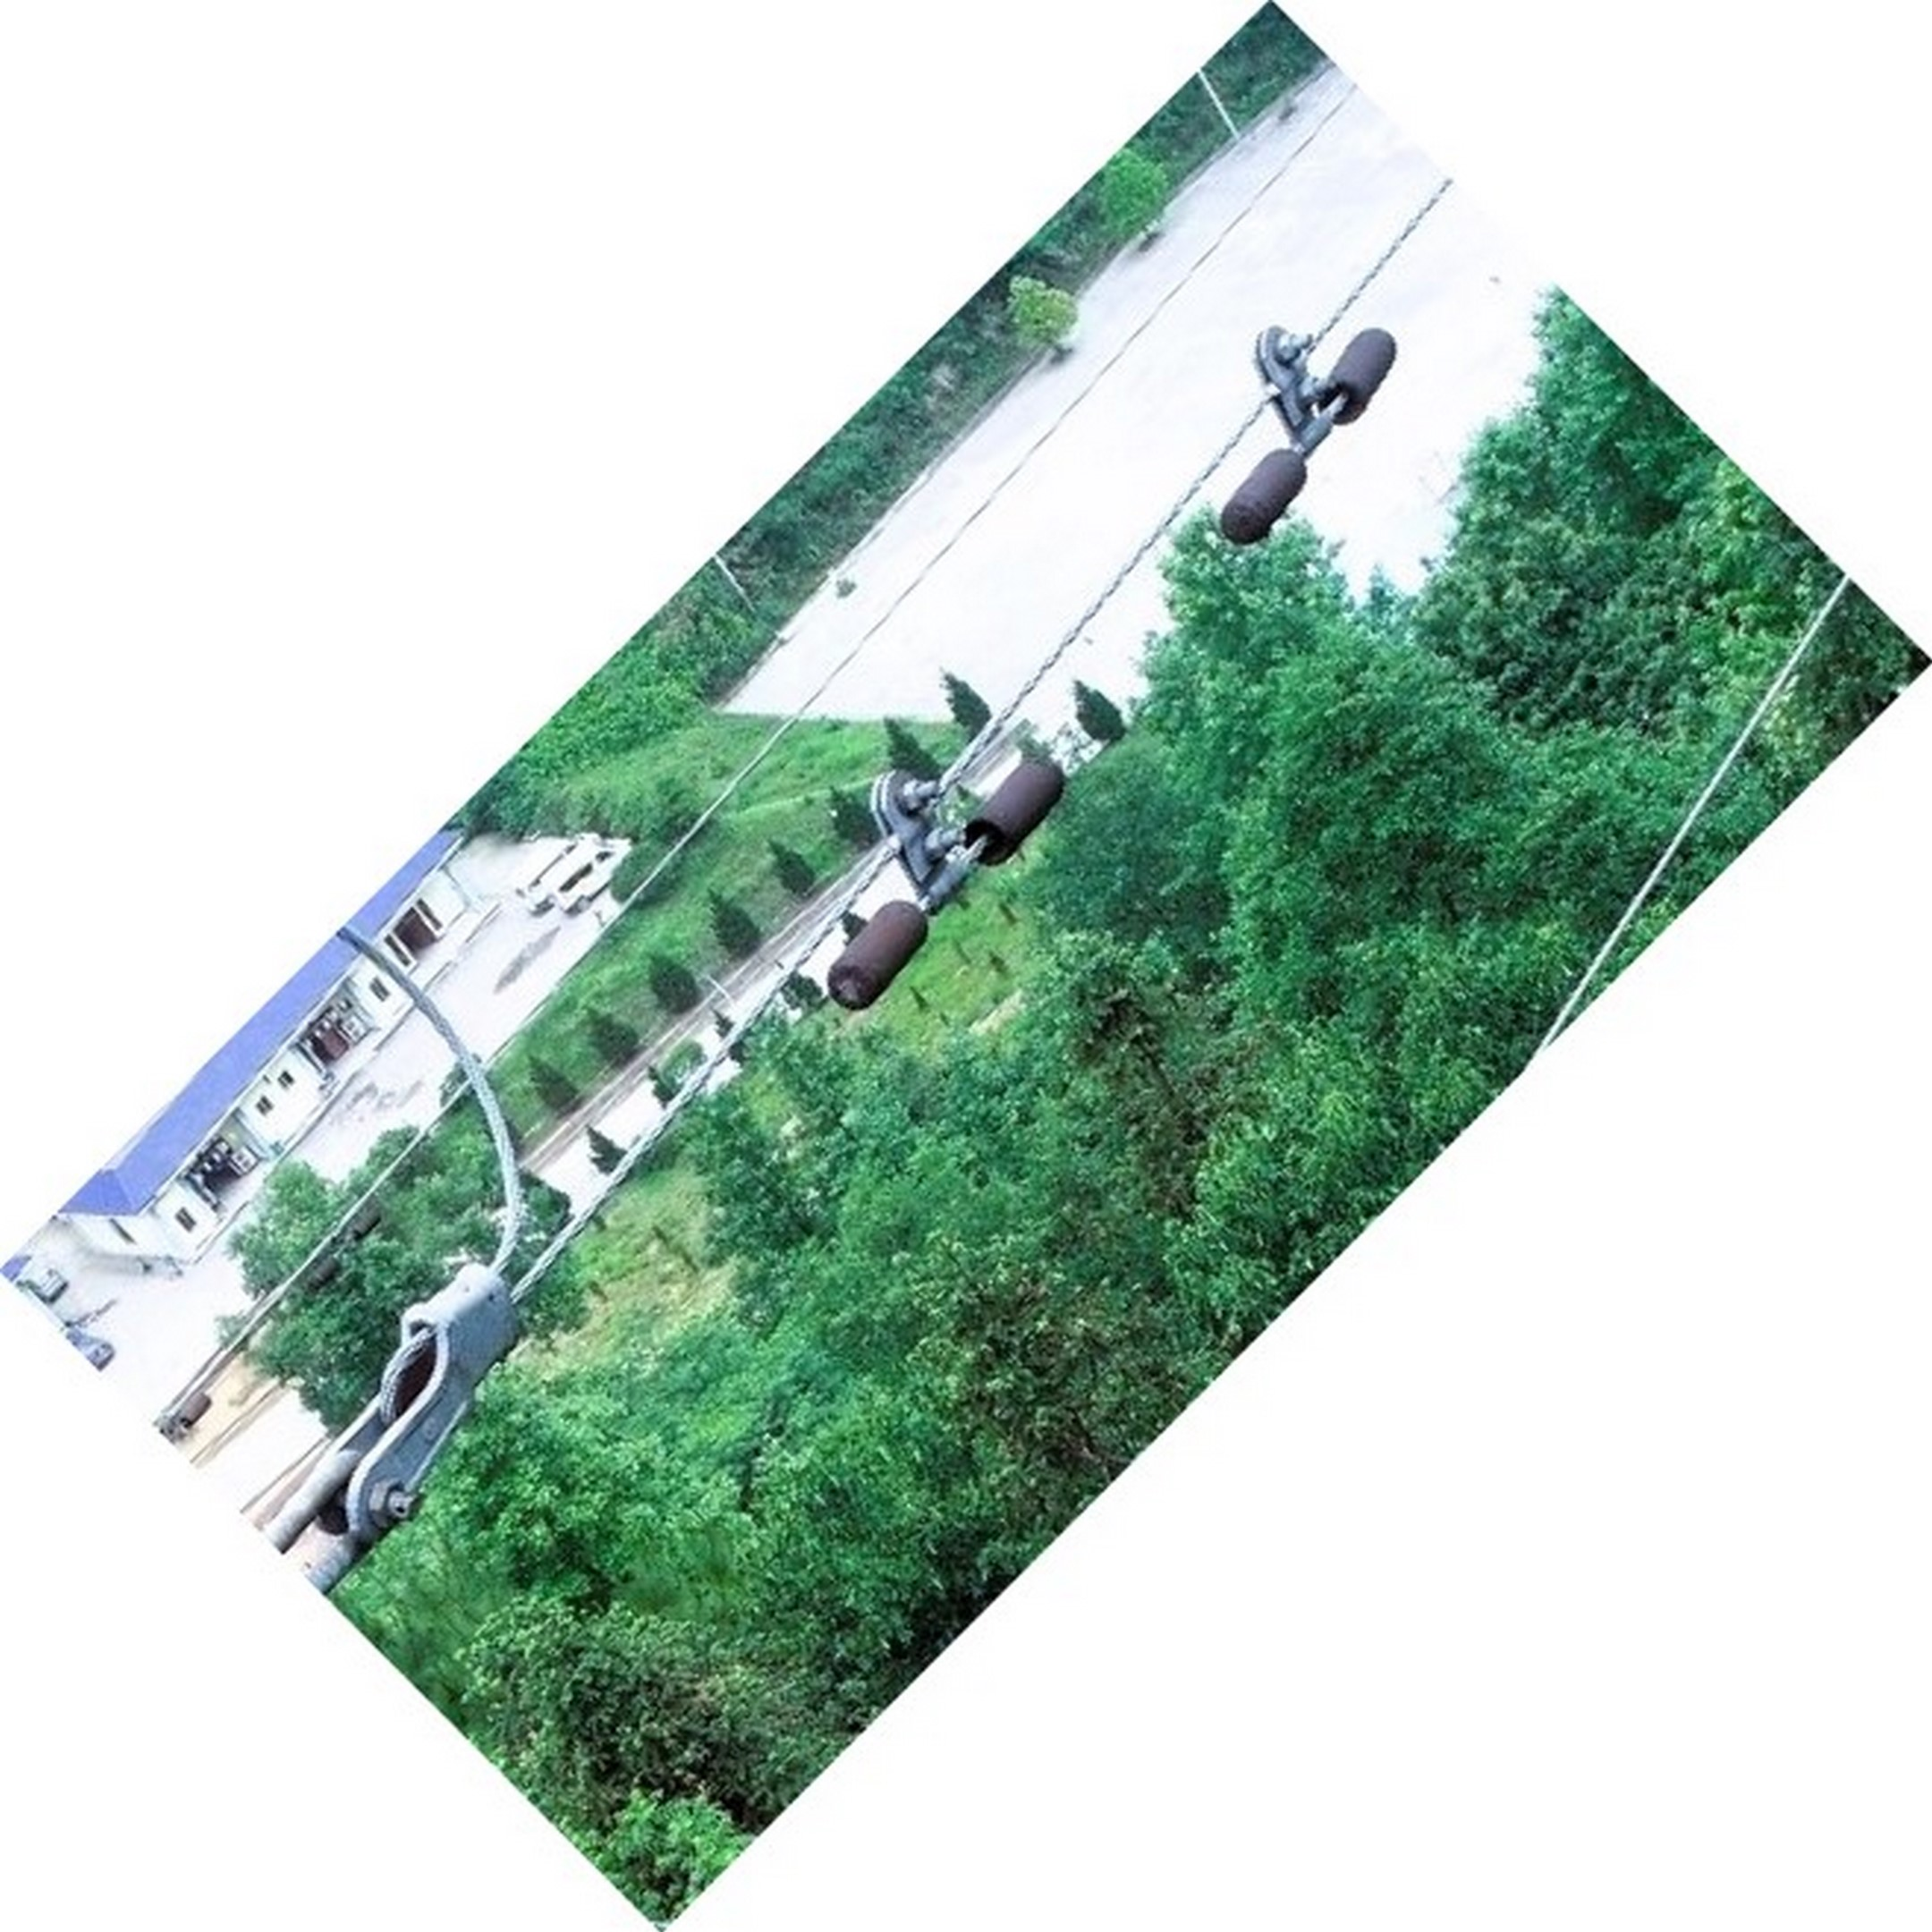Shockproof hammer: (793, 717, 1076, 1030), (1196, 295, 1422, 561)
